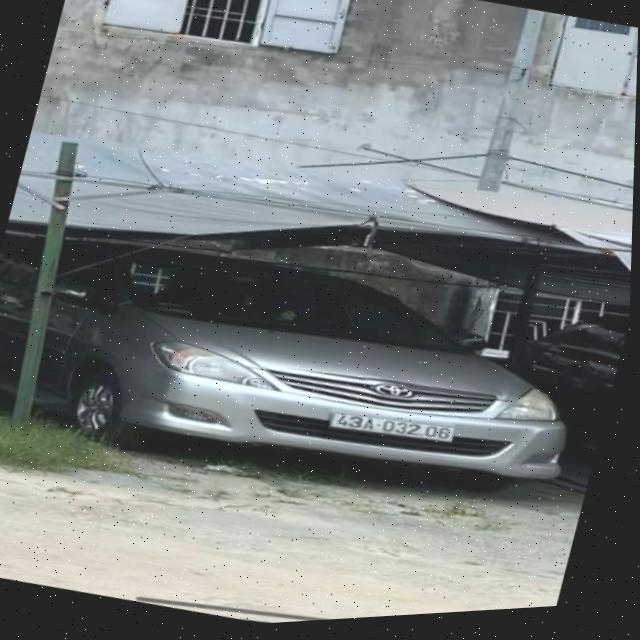car: (0, 186, 612, 552)
plate: (317, 387, 465, 464)
